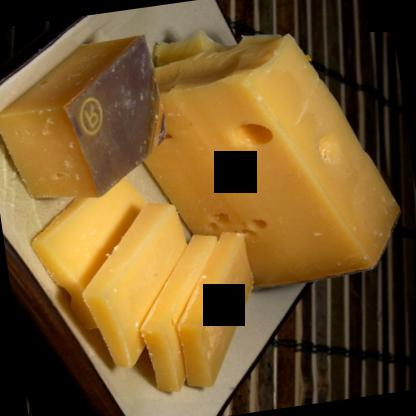parmesan cheese: (112, 15, 406, 298), (32, 174, 262, 398)
